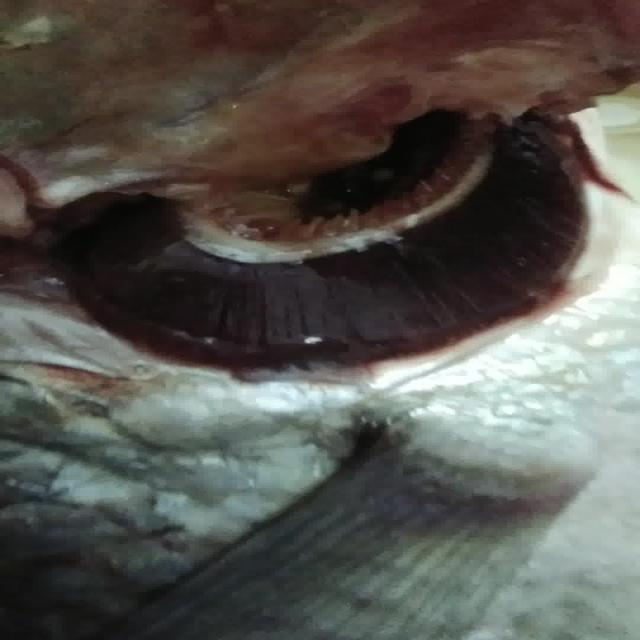Non-Fresh: (62, 69, 602, 395)
